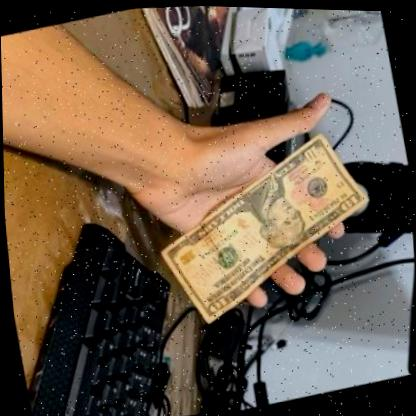ten-front: (138, 121, 394, 339)
